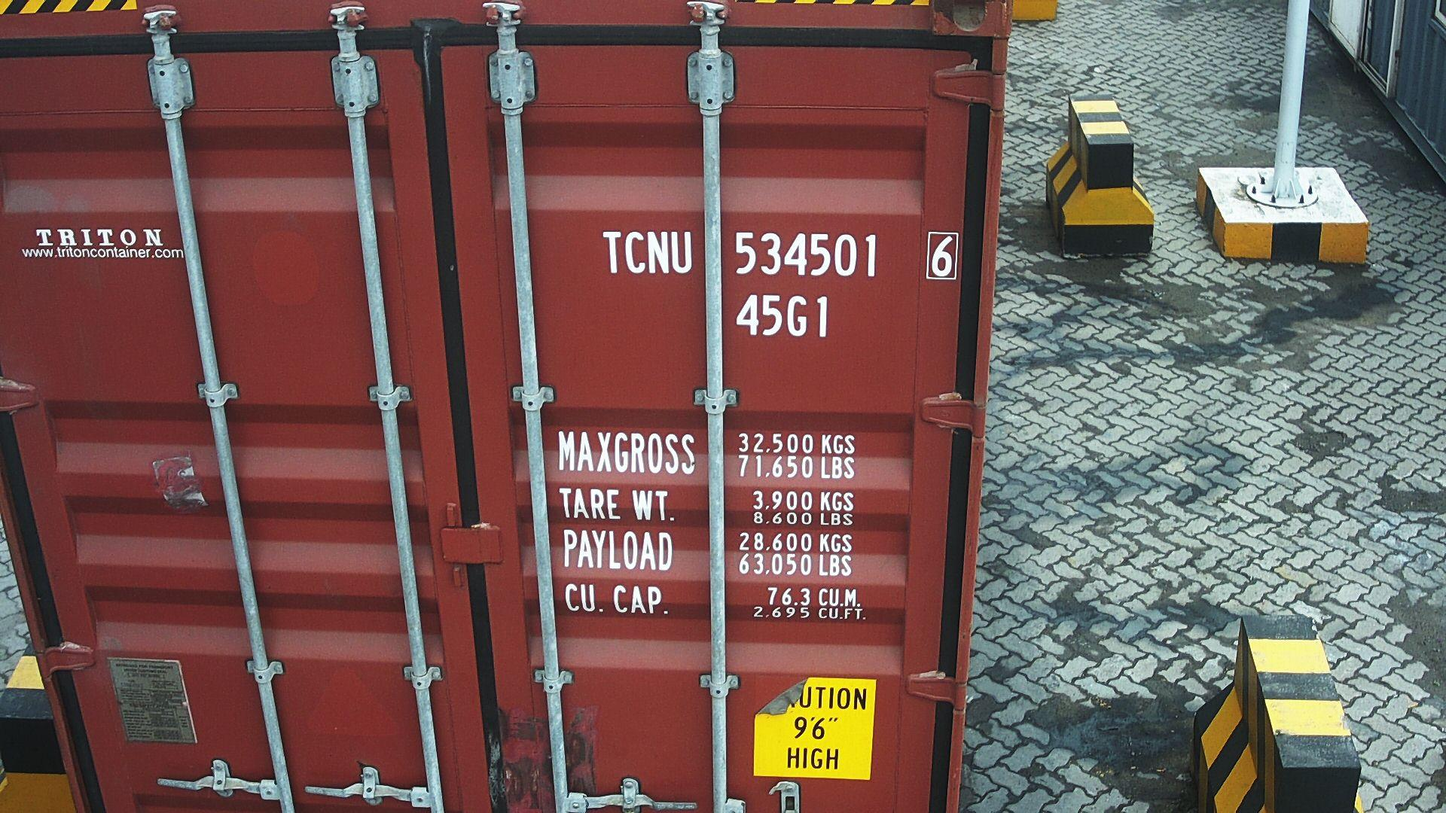container-numbers: (597, 226, 964, 284), (732, 291, 836, 340)
